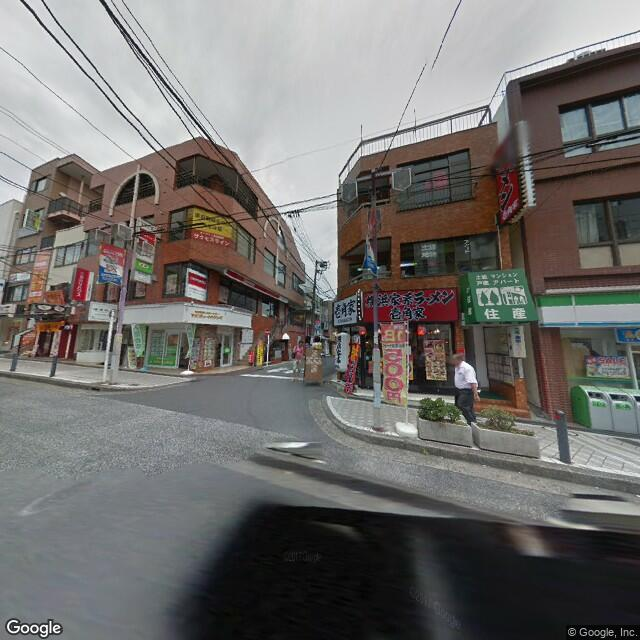family_mart: (537, 288, 640, 328)
